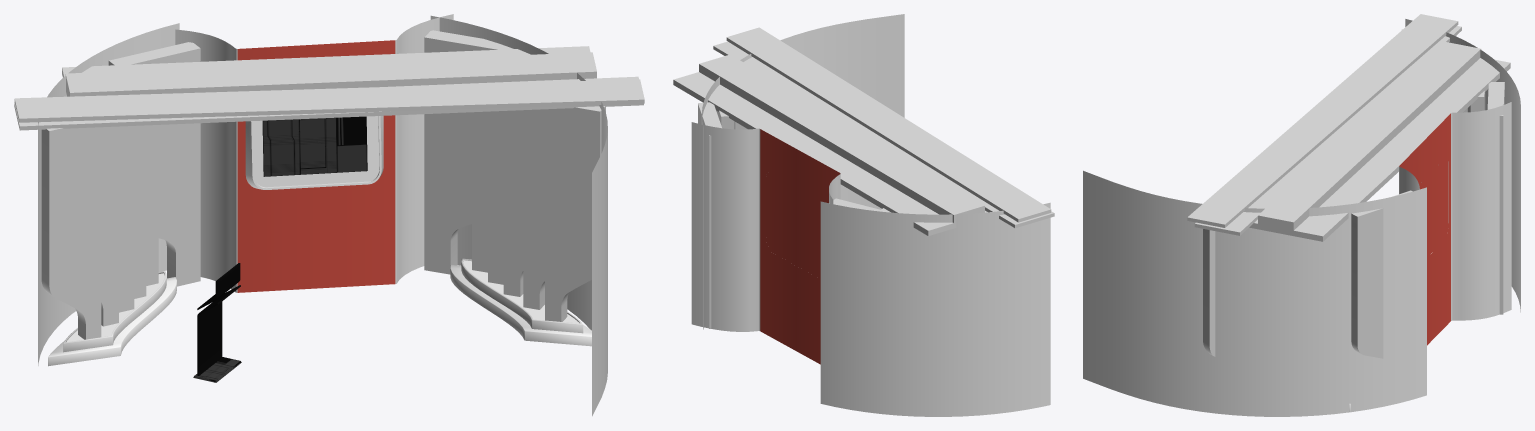
The model's file is PrimaryVision.fbx.
The picture shows the model from 3 angles, left to right: view 1: azimuth 30°, elevation 25°; view 2: azimuth 150°, elevation 25°; view 3: azimuth 270°, elevation 25°; orthographic projection. The views are drawn at different scales.
Visible parts, largest first — view 1: PrimaryVision, Primary_3, Primary_2, Primary_1, v1, Base; view 2: PrimaryVision, Primary_3, Primary_2; view 3: PrimaryVision, Primary_3, Primary_2, Primary_1.
Part boxes in pixels (bbox=[...]): PrimaryVision: bbox=[38, 14, 607, 416]; Primary_3: bbox=[14, 46, 644, 130]; Primary_2: bbox=[424, 30, 605, 346]; Primary_1: bbox=[41, 42, 200, 366]; v1: bbox=[262, 116, 367, 176]; Base: bbox=[193, 263, 241, 382]; PrimaryVision: bbox=[691, 14, 1050, 416]; Primary_3: bbox=[673, 27, 1054, 235]; Primary_2: bbox=[698, 102, 747, 328]; PrimaryVision: bbox=[1083, 19, 1520, 416]; Primary_3: bbox=[1187, 14, 1510, 241]; Primary_2: bbox=[1203, 190, 1412, 412]; Primary_1: bbox=[1401, 29, 1504, 314].
Bounding box in the file's own units: 663 × 301 × 572.
